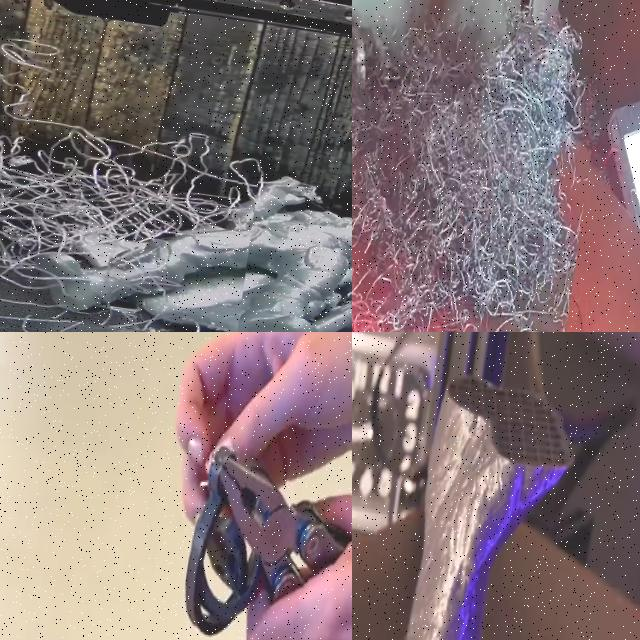spaghetti: (352, 0, 611, 332), (0, 74, 263, 332)
